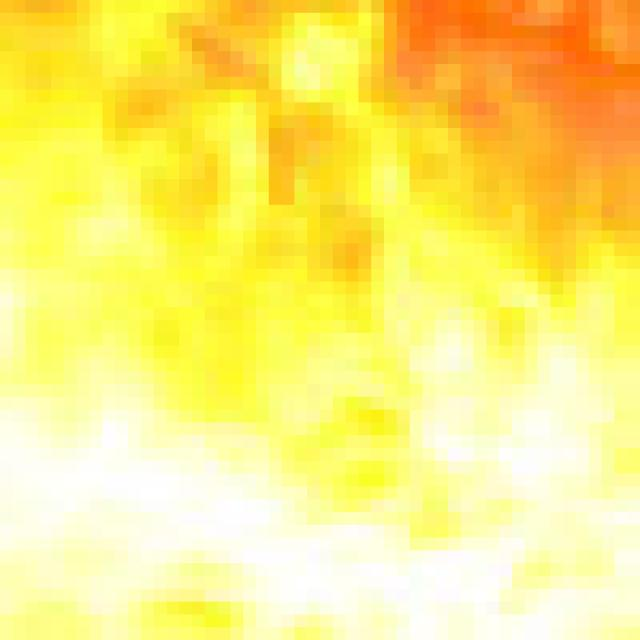fire: (4, 2, 640, 624)
